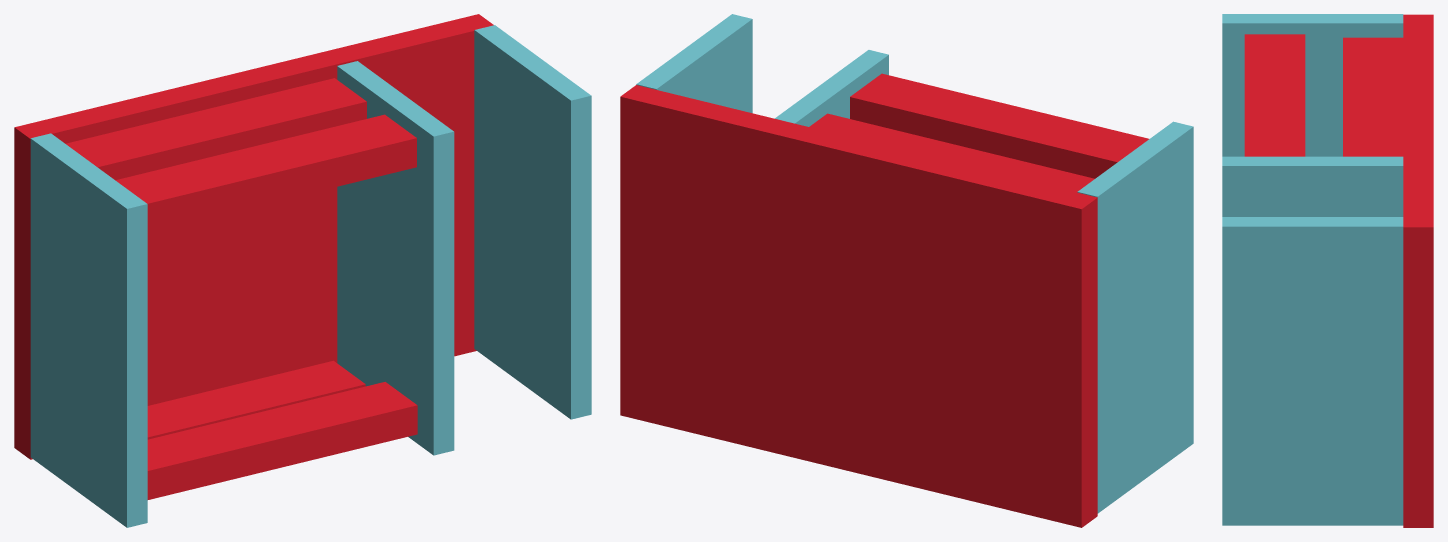
Rendered from tinker.obj.
3 views of the same model, side by side, from view 1: azimuth 30°, elevation 25°; view 2: azimuth 150°, elevation 25°; view 3: azimuth 270°, elevation 25° (orthographic). The views are drawn at different scales.
Parts seen in each view (by area): view 1: obj_0, obj_1, obj_2, obj_3, obj_6, obj_5, obj_7, obj_4; view 2: obj_0, obj_1, obj_6, obj_2, obj_7, obj_3; view 3: obj_2, obj_0, obj_1, obj_3, obj_6, obj_7.
Part boxes in pixels (bbox=[...]): obj_0: bbox=[14, 14, 493, 459]; obj_1: bbox=[30, 133, 147, 527]; obj_2: bbox=[474, 25, 591, 419]; obj_3: bbox=[337, 61, 454, 455]; obj_6: bbox=[115, 114, 416, 232]; obj_5: bbox=[147, 382, 417, 499]; obj_7: bbox=[65, 78, 366, 180]; obj_4: bbox=[147, 360, 365, 439]; obj_0: bbox=[620, 85, 1097, 527]; obj_1: bbox=[1077, 121, 1193, 513]; obj_6: bbox=[850, 73, 1148, 178]; obj_2: bbox=[636, 14, 752, 113]; obj_7: bbox=[809, 113, 1094, 192]; obj_3: bbox=[775, 50, 888, 126]; obj_2: bbox=[1222, 217, 1403, 525]; obj_0: bbox=[1403, 14, 1433, 527]; obj_1: bbox=[1222, 14, 1403, 156]; obj_3: bbox=[1222, 156, 1403, 216]; obj_6: bbox=[1244, 34, 1305, 156]; obj_7: bbox=[1343, 37, 1403, 156].
Size of the model in its own units: 200 by 132 by 84.
